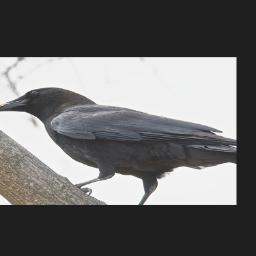Crow: (0, 87, 236, 204)
